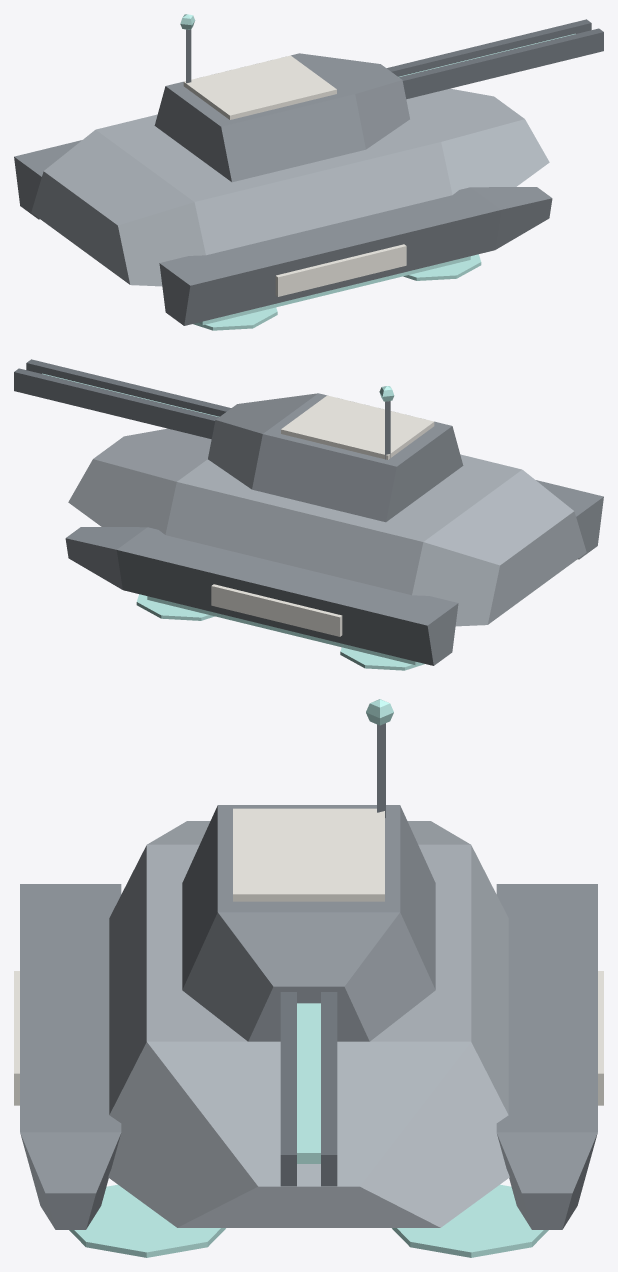
File: formation_flank.glb
The picture shows the model from 3 angles, top to bottom: view 1: azimuth 30°, elevation 25°; view 2: azimuth 150°, elevation 25°; view 3: azimuth 270°, elevation 25°; orthographic projection. The views are drawn at different scales.
Visible parts, largest first — view 1: future_formation_flank; view 2: future_formation_flank; view 3: future_formation_flank.
Boxes of the visible parts, x1=… form: future_formation_flank: x1=14, y1=14, x2=603, y2=330; future_formation_flank: x1=14, y1=359, x2=603, y2=670; future_formation_flank: x1=14, y1=699, x2=603, y2=1257.
Size of the model in its own units: 0.9995 by 0.4362 by 0.6059.
